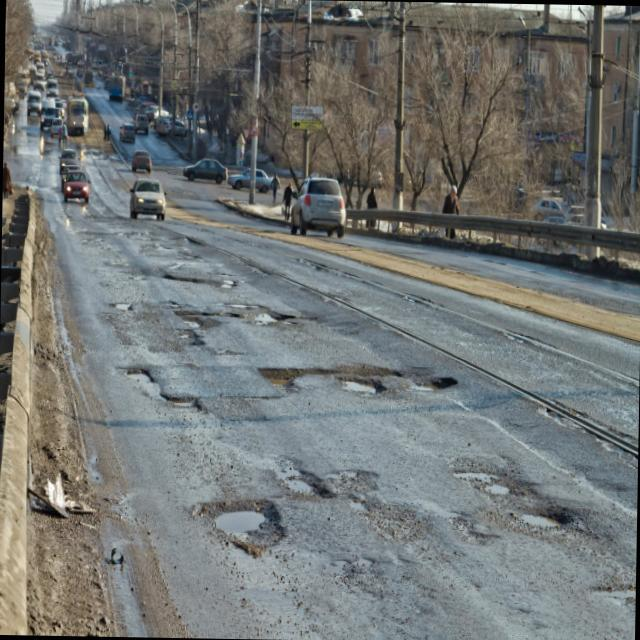Pothole: (207, 496, 286, 552), (128, 361, 201, 415), (507, 497, 575, 537), (281, 462, 334, 506), (455, 464, 518, 496), (340, 366, 388, 404), (260, 356, 304, 396), (412, 368, 458, 398), (592, 570, 636, 600), (161, 265, 216, 287), (253, 304, 289, 330), (174, 304, 208, 328), (185, 232, 208, 251), (348, 496, 372, 513), (222, 271, 236, 295), (222, 310, 244, 324), (114, 300, 129, 314)
